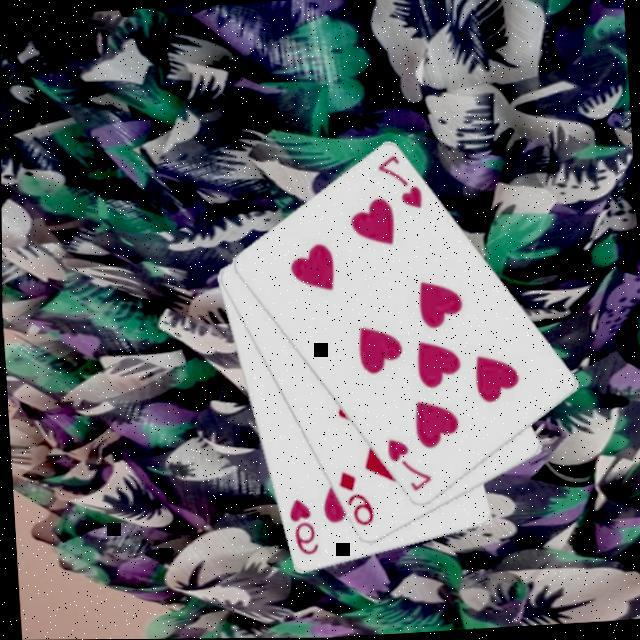6H: (282, 496, 318, 562)
7H: (371, 152, 424, 216), (381, 435, 434, 498)
9D: (332, 468, 375, 532)
